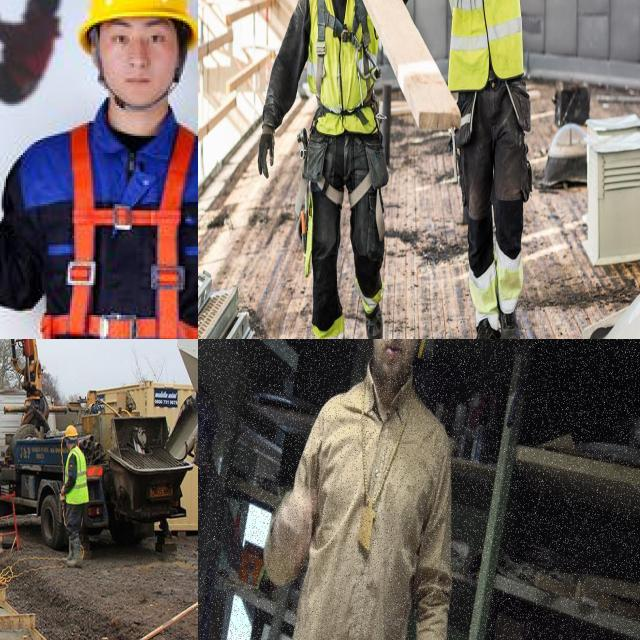Harness: (27, 121, 198, 339)
hand_glove: (252, 129, 284, 173)
head_helmet: (63, 424, 79, 441)
person: (260, 0, 416, 339), (427, 0, 540, 339), (62, 426, 90, 570)
shoes: (493, 289, 527, 339), (357, 285, 387, 339), (466, 314, 499, 339), (64, 548, 86, 572)
vest: (303, 0, 381, 137), (435, 0, 526, 77), (61, 448, 89, 508)
